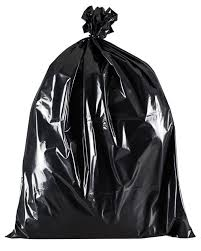Trash: (6, 4, 201, 243)
